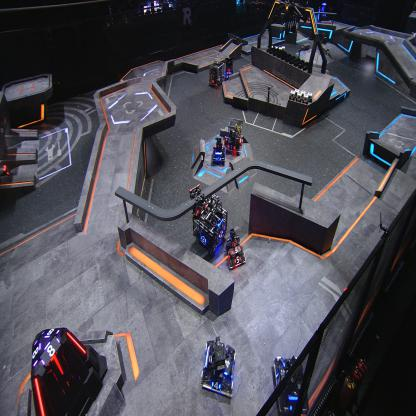car: (272, 352, 310, 416), (193, 195, 228, 256), (201, 337, 236, 398), (224, 228, 247, 269), (220, 117, 244, 154), (207, 59, 225, 87), (210, 135, 225, 165), (222, 56, 235, 80), (0, 160, 10, 181)
